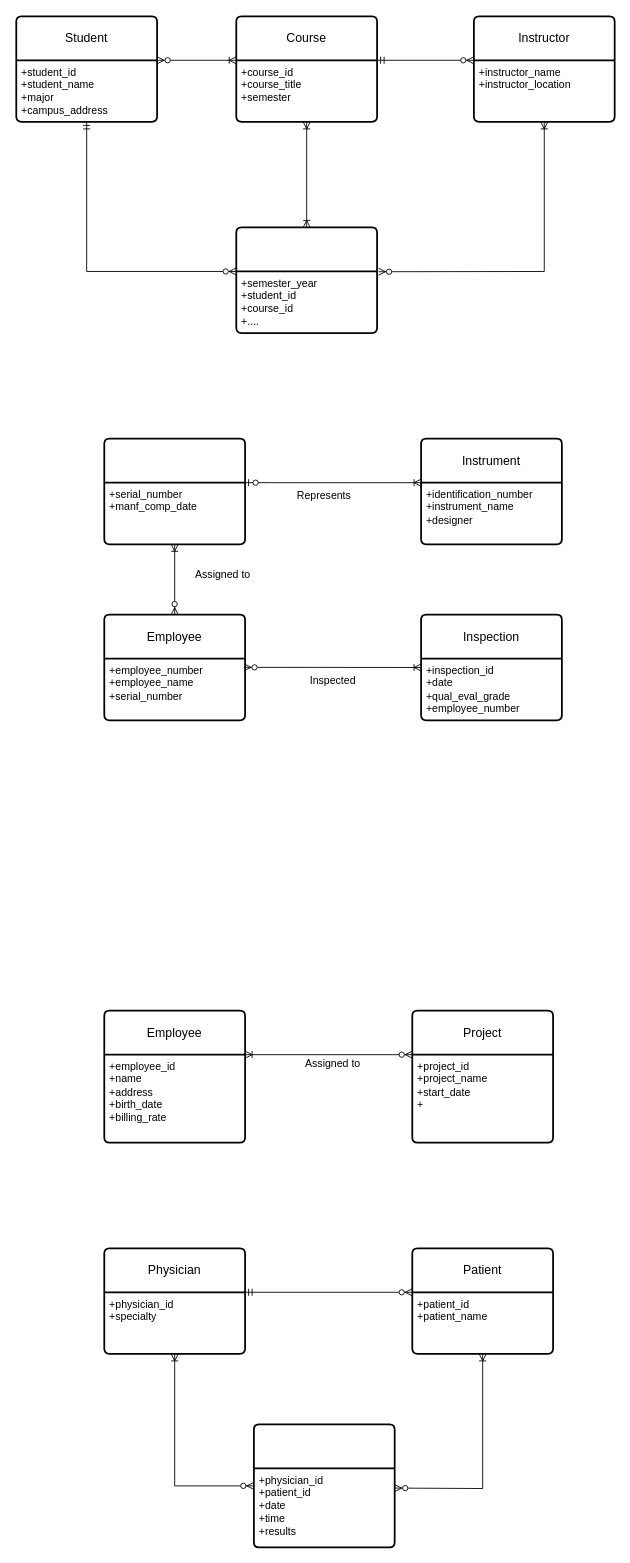
This 630x1563 diagram has some shape labels left out. Here are the shapes that lost their labels. From the top down, the box of each, then its label:
(235, 226, 378, 334): Report
(103, 437, 246, 545): Piano
(253, 1423, 395, 1548): Treatment Detail
